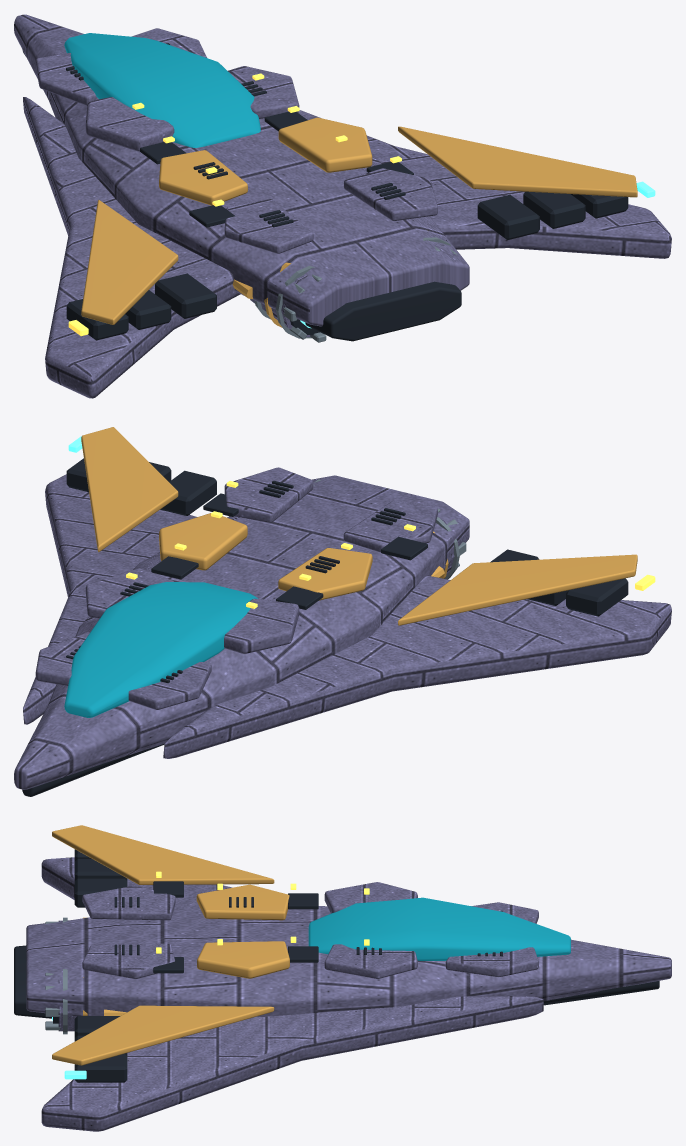
The model's file is peregrine.glb.
The picture shows the model from 3 angles, top to bottom: view 1: azimuth 30°, elevation 25°; view 2: azimuth 150°, elevation 25°; view 3: azimuth 270°, elevation 25°; orthographic projection. The views are drawn at different scales.
Parts seen in each view (by area): view 1: Gôndola do motor.037 · exportação, Colar da turbina.112 · exportação, Bocal do motor.037 · exportação, Cabine panorâmica.018 · exportação, Aleta do bocal.303 · exportação, Luz de serviço.151 · exportação; view 2: Gôndola do motor.037 · exportação, Colar da turbina.112 · exportação, Cabine panorâmica.018 · exportação, Bocal do motor.037 · exportação, Luz de serviço.151 · exportação; view 3: Gôndola do motor.037 · exportação, Colar da turbina.112 · exportação, Cabine panorâmica.018 · exportação, Bocal do motor.037 · exportação, Aleta do bocal.303 · exportação.
Boxes of the visible parts, x1=… form: Gôndola do motor.037 · exportação: x1=14, y1=14, x2=671, y2=398; Colar da turbina.112 · exportação: x1=81, y1=117, x2=637, y2=327; Bocal do motor.037 · exportação: x1=22, y1=43, x2=628, y2=341; Cabine panorâmica.018 · exportação: x1=64, y1=33, x2=260, y2=147; Aleta do bocal.303 · exportação: x1=254, y1=237, x2=457, y2=342; Luz de serviço.151 · exportação: x1=68, y1=73, x2=401, y2=336; Gôndola do motor.037 · exportação: x1=14, y1=467, x2=671, y2=789; Colar da turbina.112 · exportação: x1=81, y1=427, x2=637, y2=625; Cabine panorâmica.018 · exportação: x1=64, y1=582, x2=258, y2=717; Bocal do motor.037 · exportação: x1=22, y1=458, x2=628, y2=796; Luz de serviço.151 · exportação: x1=126, y1=481, x2=655, y2=608; Gôndola do motor.037 · exportação: x1=26, y1=857, x2=671, y2=1131; Colar da turbina.112 · exportação: x1=52, y1=825, x2=289, y2=1065; Cabine panorâmica.018 · exportação: x1=308, y1=897, x2=570, y2=960; Bocal do motor.037 · exportação: x1=14, y1=849, x2=659, y2=1082; Aleta do bocal.303 · exportação: x1=45, y1=917, x2=67, y2=1034.
Bounding box in the file's own units: 49.83 × 8.4 × 53.8.
7 materials, 1 textured.
